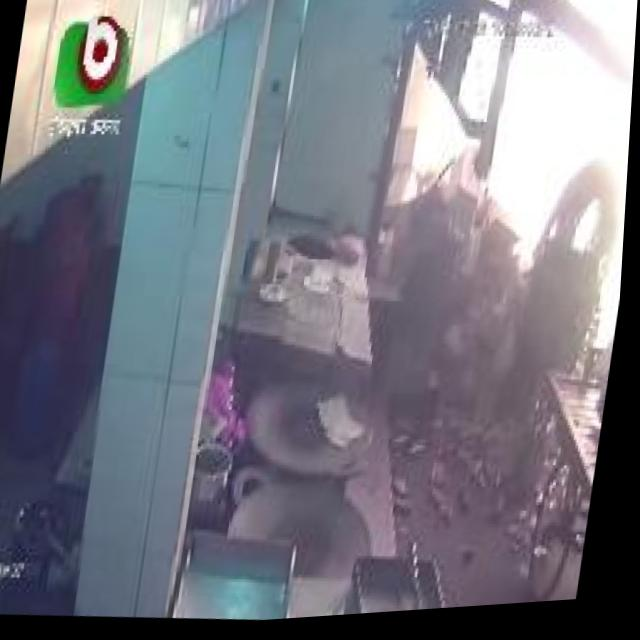fire: (440, 0, 639, 366), (398, 58, 520, 215)
